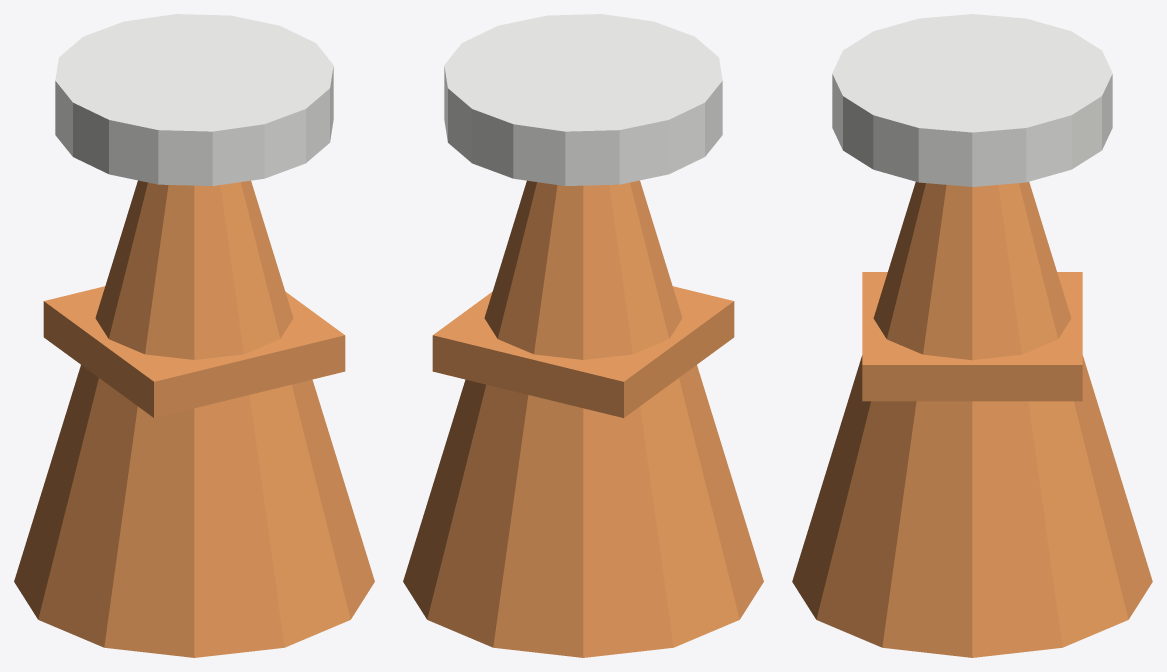
Rendered from Obstacle_Cone.fbx.
3 renders of one model, left to right at view 1: azimuth 30°, elevation 25°; view 2: azimuth 150°, elevation 25°; view 3: azimuth 270°, elevation 25°, orthographic.
Parts seen in each view (by area): view 1: Obstacle_Cone; view 2: Obstacle_Cone; view 3: Obstacle_Cone.
Part boxes in pixels (<box>): Obstacle_Cone: <box>14,14,374,657</box>; Obstacle_Cone: <box>403,14,763,657</box>; Obstacle_Cone: <box>792,14,1152,657</box>.
Size of the model in its own units: 0.36 by 0.56 by 0.36.
